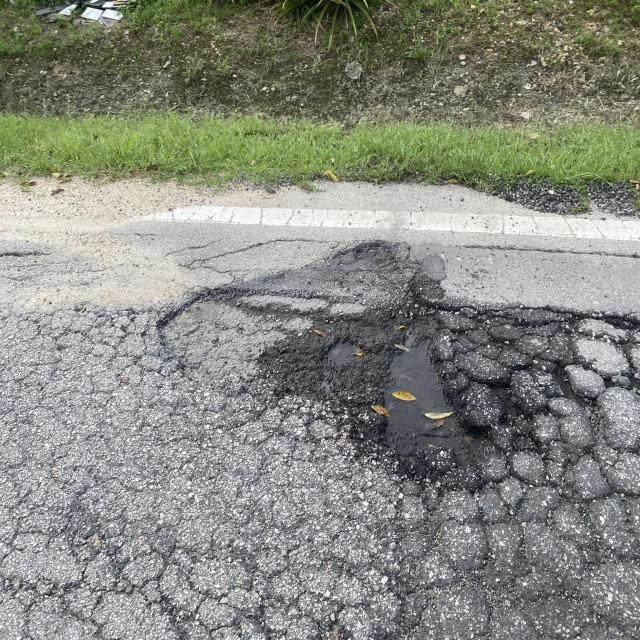pothole: (136, 236, 640, 541)
